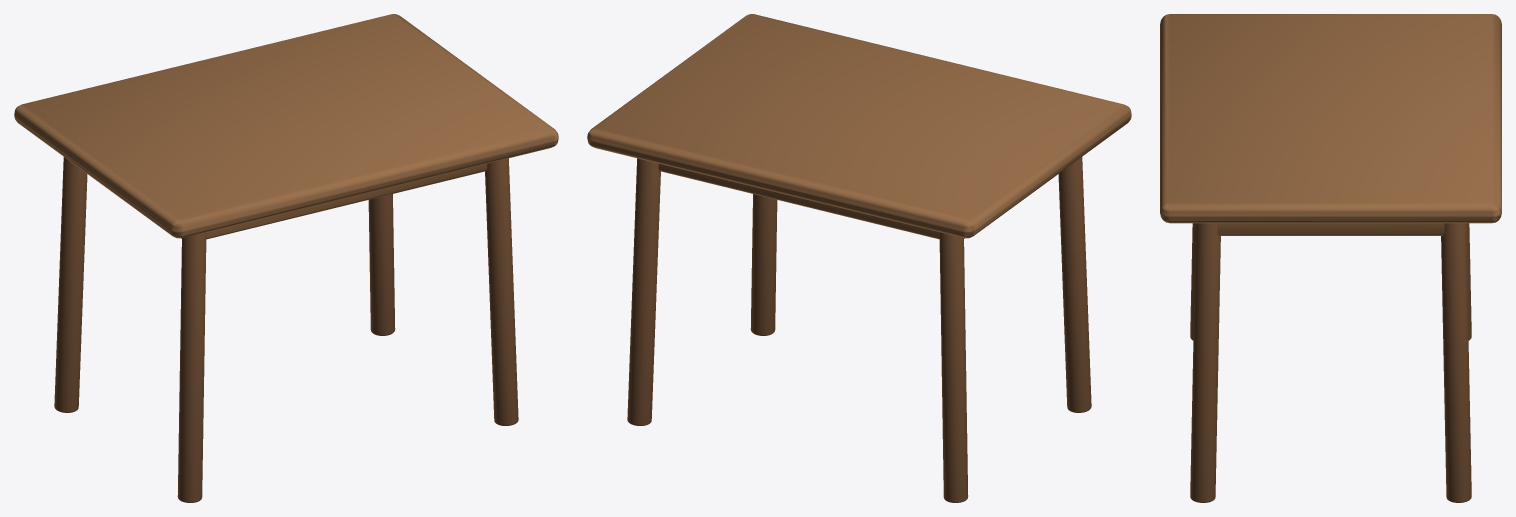
The model's file is urban-compact-dining-v1.glb.
3 views of the same model, side by side, from view 1: azimuth 30°, elevation 25°; view 2: azimuth 150°, elevation 25°; view 3: azimuth 270°, elevation 25° (orthographic). The views are drawn at different scales.
Parts seen in each view (by area): view 1: Soft rectangular dining top, Tapered oak leg, Tapered oak leg.002, Tapered oak leg.001, Tapered oak leg.003, Apron; view 2: Soft rectangular dining top, Tapered oak leg.001, Tapered oak leg.003, Tapered oak leg, Tapered oak leg.002, Apron; view 3: Soft rectangular dining top, Tapered oak leg.002, Tapered oak leg.003, Apron, Tapered oak leg, Tapered oak leg.001.
Part boxes in pixels (<box>): Soft rectangular dining top: <box>14,14,558,238</box>; Tapered oak leg: <box>177,232,206,502</box>; Tapered oak leg.002: <box>485,158,518,425</box>; Tapered oak leg.001: <box>54,157,87,412</box>; Tapered oak leg.003: <box>368,194,395,335</box>; Apron: <box>181,163,487,239</box>; Soft rectangular dining top: <box>587,14,1131,238</box>; Tapered oak leg.001: <box>939,232,968,502</box>; Tapered oak leg.003: <box>627,158,660,425</box>; Tapered oak leg: <box>1058,157,1091,412</box>; Tapered oak leg.002: <box>750,194,777,335</box>; Apron: <box>658,163,964,239</box>; Soft rectangular dining top: <box>1160,14,1501,223</box>; Tapered oak leg.002: <box>1190,223,1220,502</box>; Tapered oak leg.003: <box>1441,223,1471,502</box>; Apron: <box>1217,223,1444,235</box>; Tapered oak leg: <box>1190,223,1195,340</box>; Tapered oak leg.001: <box>1466,223,1471,340</box>.
Size of the model in its own units: 0.95 by 0.7007 by 0.7.
2 materials, 2 textured.
